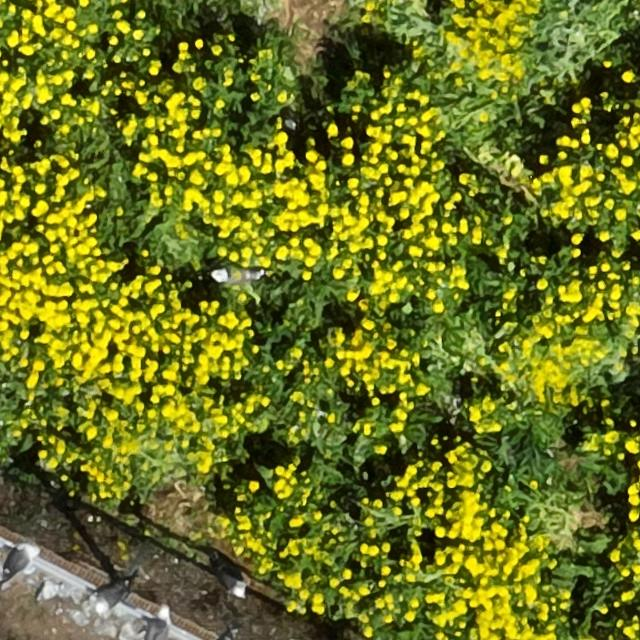umineko: (212, 266, 259, 284), (93, 586, 124, 611), (217, 569, 245, 596)
